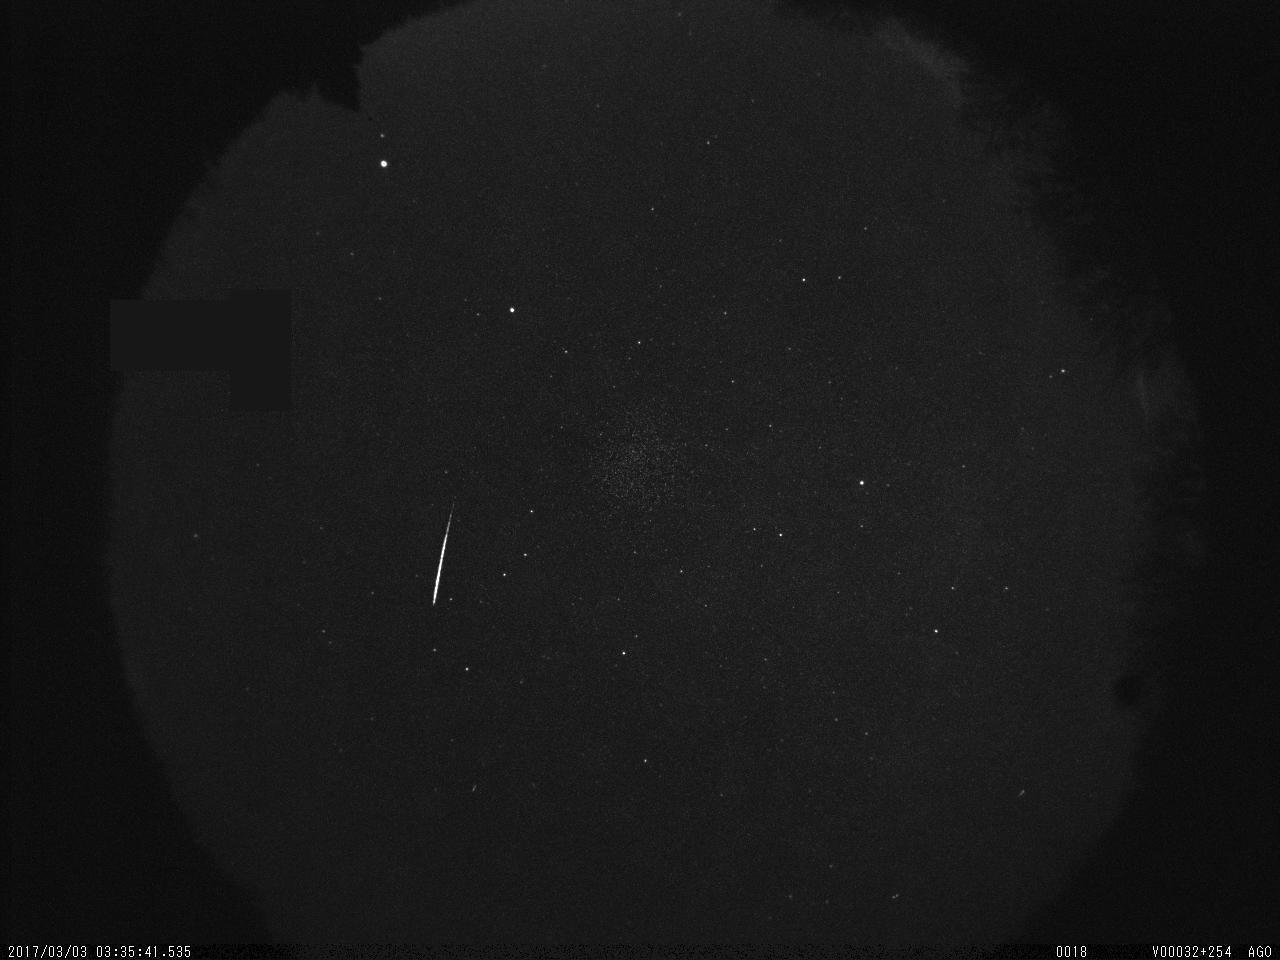meteor: (392, 486, 485, 622)
